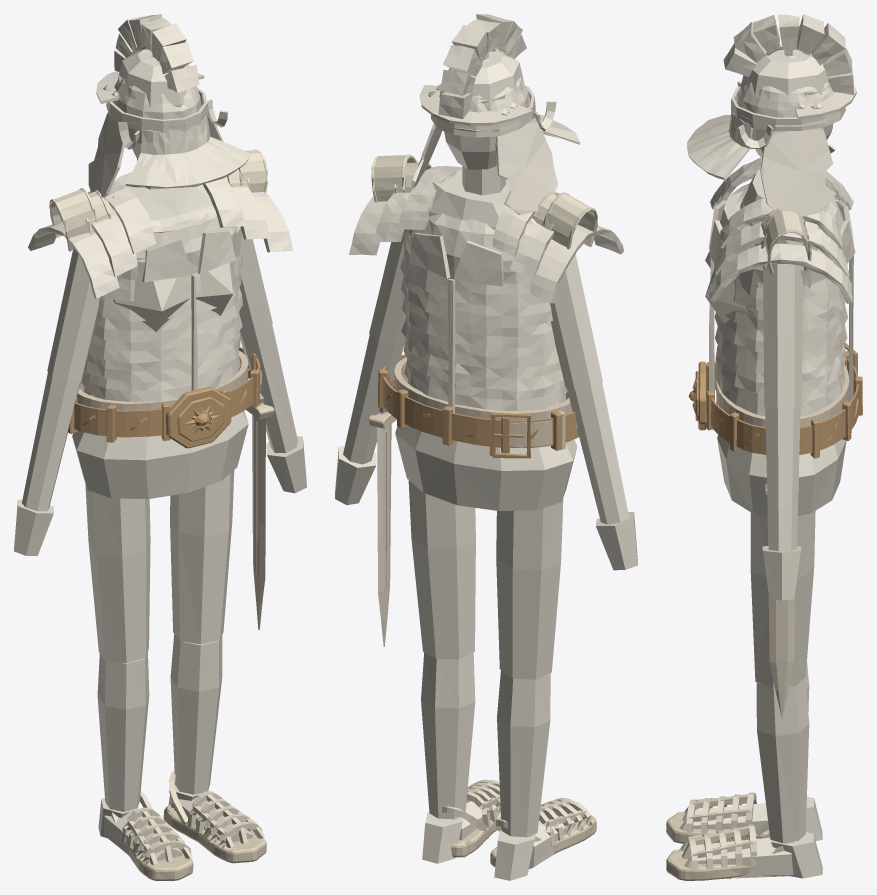
Rendered from roman-female-average.glb.
3 renders of one model, left to right at view 1: azimuth 30°, elevation 25°; view 2: azimuth 150°, elevation 25°; view 3: azimuth 270°, elevation 25°, orthographic. The views are drawn at different scales.
Parts seen in each view (by area): view 1: torso, leg_upper_l, leg_upper_r, leg_lower_r, leg_lower_l, helmet:neck_guard, arm_lower_l, arm_upper_l, arm_lower_r, cuirass:girth_hoop_2, cuirass:girth_hoop_3, cuirass:girth_hoop_4 (+36 smaller); view 2: torso, leg_upper_l, leg_upper_r, leg_lower_r, leg_lower_l, arm_lower_l, arm_upper_l, helmet:cheek_guard_r, arm_lower_r, cuirass:girth_hoop_2, head, cuirass:girth_hoop_1 (+40 smaller); view 3: torso, leg_lower_r, arm_upper_r, leg_upper_r, helmet:cheek_guard_l, arm_lower_r, cuirass:shoulder_lame_l2, head, helmet:neck_guard, gladius:blade, helmet:bowl, cuirass:girth_hoop_3 (+40 smaller).
Boxes of the visible parts, x1,y1,x2,y2 form: torso: (72,172,248,499); leg_upper_l: (85,484,150,663); leg_upper_r: (170,470,234,644); leg_lower_r: (170,634,222,794); leg_lower_l: (97,652,149,811); helmet:neck_guard: (125,116,250,187); arm_lower_l: (22,372,80,511); arm_upper_l: (47,249,99,381); arm_lower_r: (240,326,297,453); cuirass:girth_hoop_2: (84,332,240,383); cuirass:girth_hoop_3: (88,312,242,363); cuirass:girth_hoop_4: (92,288,242,342); torso: (395,169,577,510); leg_upper_l: (496,498,563,679); leg_upper_r: (408,480,475,659); leg_lower_r: (421,652,475,819); leg_lower_l: (497,670,550,837); arm_lower_l: (567,382,629,524); arm_upper_l: (550,254,602,390); helmet:cheek_guard_r: (495,118,558,214); arm_lower_r: (343,334,404,464); cuirass:girth_hoop_2: (403,338,563,391); head: (443,51,524,169); cuirass:girth_hoop_1: (404,359,567,410); torso: (705,169,846,516); leg_lower_r: (756,678,809,843); arm_upper_r: (763,264,802,409); leg_upper_r: (750,511,815,688); helmet:cheek_guard_l: (760,127,836,216); arm_lower_r: (765,406,800,551); cuirass:shoulder_lame_l2: (709,243,852,303); head: (740,49,833,157); helmet:neck_guard: (687,112,752,179); gladius:blade: (767,515,795,719); helmet:bowl: (737,53,834,117); cuirass:girth_hoop_3: (715,324,847,374).
Size of the model in its own units: 0.6633 by 1.77 by 0.3735.
